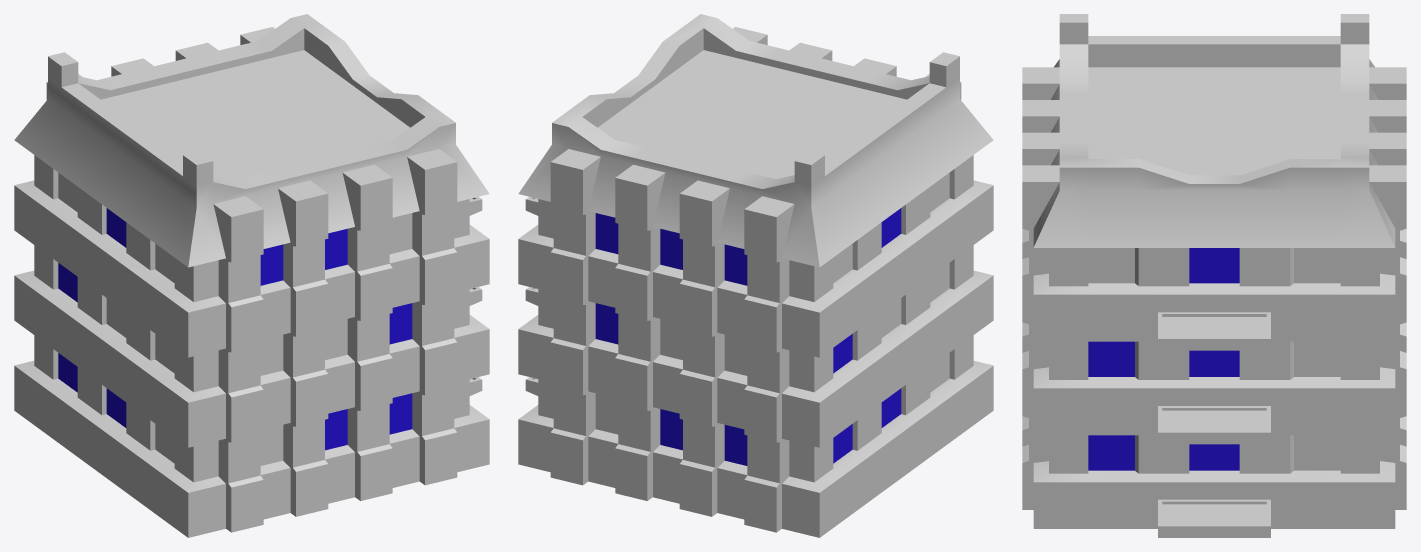
Rendered from Apartmentbuilding2_low.fbx.
3 renders of one model, left to right at view 1: azimuth 30°, elevation 25°; view 2: azimuth 150°, elevation 25°; view 3: azimuth 270°, elevation 25°, orthographic. The views are drawn at different scales.
Parts seen in each view (by area): view 1: ApartmentBuilding2_low; view 2: ApartmentBuilding2_low; view 3: ApartmentBuilding2_low.
Part boxes in pixels (x1=…): ApartmentBuilding2_low: x1=14, y1=14, x2=489, y2=537; ApartmentBuilding2_low: x1=518, y1=14, x2=993, y2=537; ApartmentBuilding2_low: x1=1022, y1=14, x2=1406, y2=537.
Bounding box in the file's own units: 3944 × 3818 × 3568.
